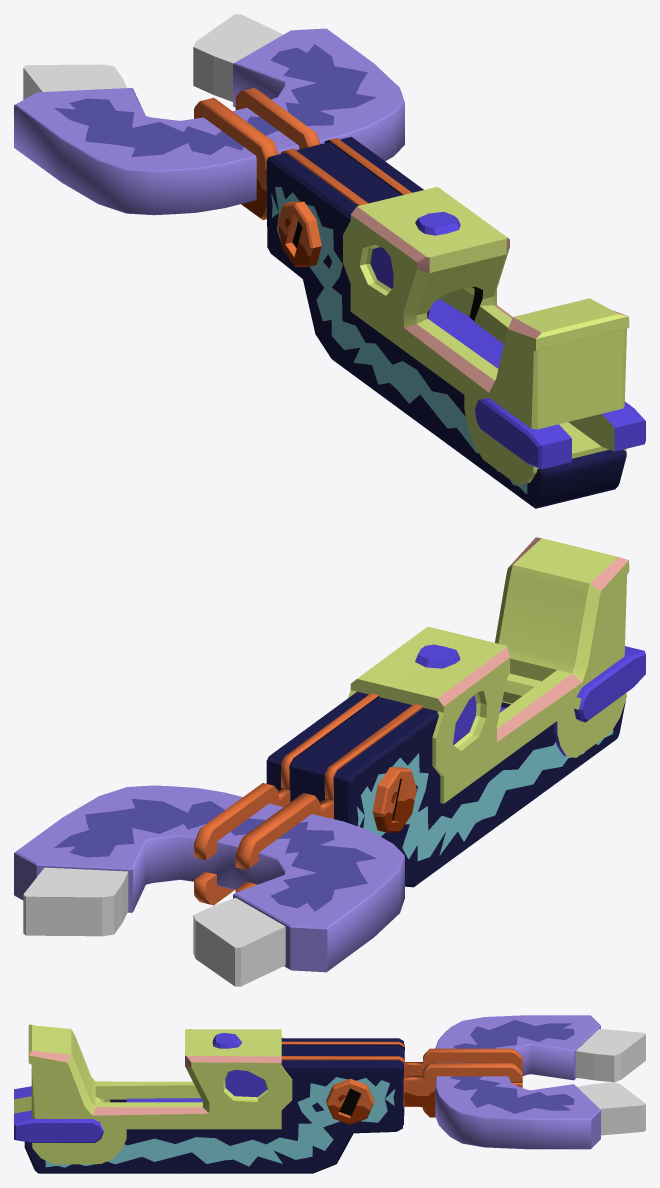
The model's file is kasper.fbx.
3 views of the same model, one above another, from view 1: azimuth 30°, elevation 25°; view 2: azimuth 150°, elevation 25°; view 3: azimuth 270°, elevation 25° (orthographic). The views are drawn at different scales.
Parts seen in each view (by area): view 1: Плоскость, Плоскость.002, Плоскость.001, Окружность.001; view 2: Плоскость.002, Плоскость, Плоскость.001, Окружность.001; view 3: Плоскость.001, Плоскость, Плоскость.002, Окружность.
Boxes of the visible parts, x1,y1,x2,y2 form: Плоскость: (343, 186, 645, 484); Плоскость.002: (14, 14, 404, 215); Плоскость.001: (194, 88, 626, 508); Окружность.001: (277, 201, 321, 267); Плоскость.002: (14, 785, 404, 986); Плоскость: (348, 537, 645, 803); Плоскость.001: (194, 691, 626, 905); Окружность.001: (372, 767, 416, 832); Плоскость.001: (24, 1038, 522, 1173); Плоскость: (14, 1024, 292, 1164); Плоскость.002: (435, 1015, 645, 1149); Окружность: (326, 1078, 374, 1124).
Bounding box in the file's own units: 237 × 130 × 607.
